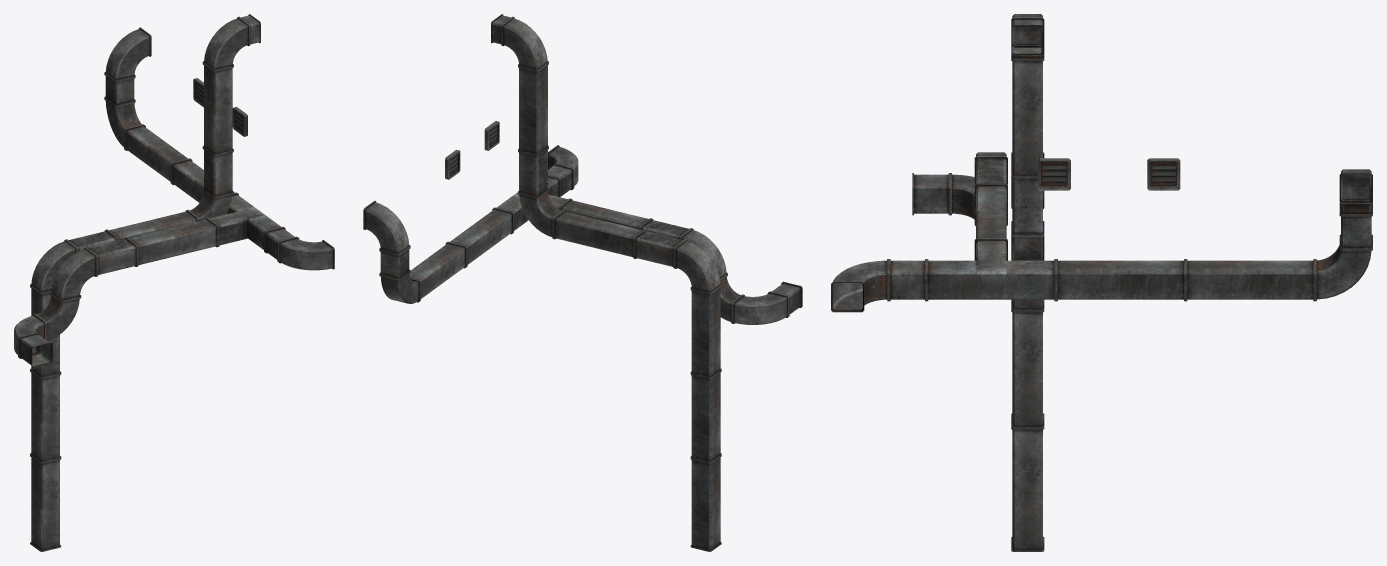
File: Vent Sets.fbx
The picture shows the model from 3 angles, left to right: view 1: azimuth 30°, elevation 25°; view 2: azimuth 150°, elevation 25°; view 3: azimuth 270°, elevation 25°; orthographic projection. The views are drawn at different scales.
Visible parts, largest first — view 1: Vent_L (×8), VentCurve (×9), Vent_M (×3), Vent_S (×3), VentT_L; view 2: Vent_L (×8), VentCurve (×9), Vent_M (×3), Vent_S (×2), VentT_L; view 3: Vent_L (×6), VentCurve (×6), VentT_L, Vent_S (×4), Vent_M (×2), VentExit (×2).
Boxes of the visible parts, bbox=[...] form: Vent_L (×8): bbox=[30, 63, 236, 551]; VentCurve (×9): bbox=[14, 16, 334, 357]; Vent_M (×3): bbox=[66, 148, 233, 276]; Vent_S (×3): bbox=[18, 74, 296, 368]; VentT_L: bbox=[207, 193, 283, 251]; Vent_L (×8): bbox=[409, 63, 721, 551]; VentCurve (×9): bbox=[363, 16, 788, 324]; Vent_M (×3): bbox=[518, 148, 691, 268]; Vent_S (×2): bbox=[379, 247, 802, 316]; VentT_L: bbox=[494, 175, 569, 232]; Vent_L (×6): bbox=[974, 59, 1314, 551]; VentCurve (×6): bbox=[831, 14, 1372, 312]; VentT_L: bbox=[926, 238, 1055, 301]; Vent_S (×4): bbox=[889, 18, 1372, 301]; Vent_M (×2): bbox=[974, 156, 1044, 235]; VentExit (×2): bbox=[1038, 158, 1180, 190].
Bounding box in the file's own units: 10.56 × 17.58 × 13.06.
